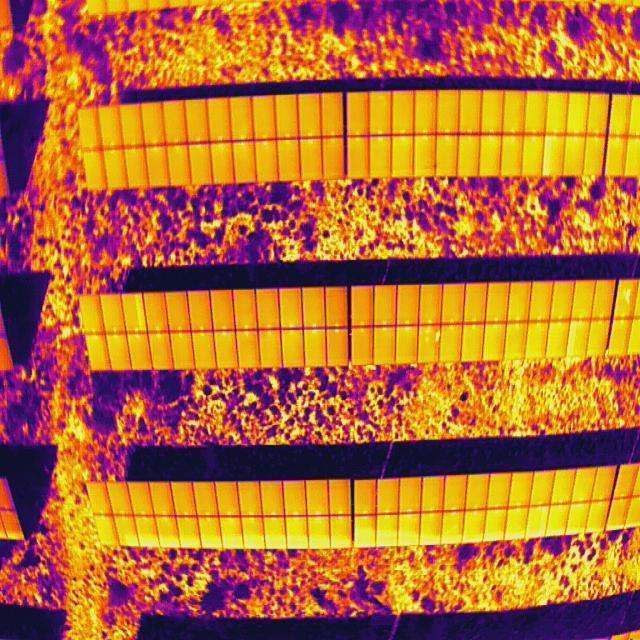diode: (130, 294, 146, 331)
hotspot: (422, 327, 432, 342), (435, 330, 440, 342)
